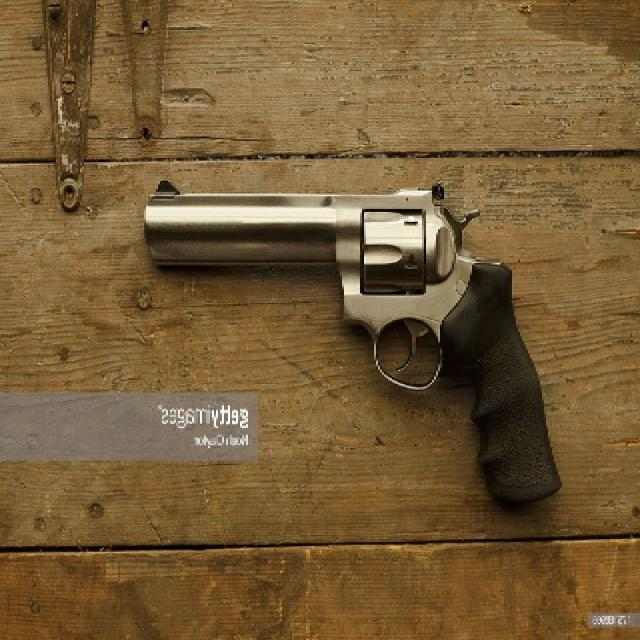handgun: (145, 179, 575, 507)
